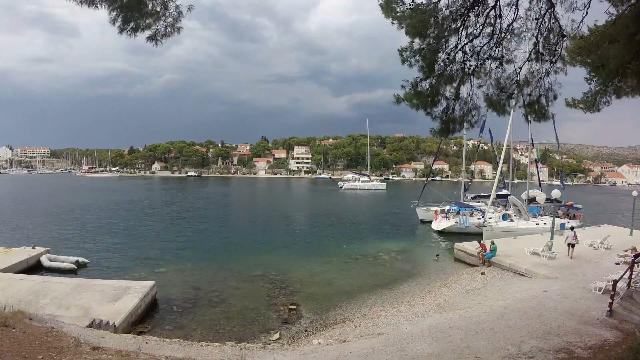Sailboat: (336, 172, 390, 194)
